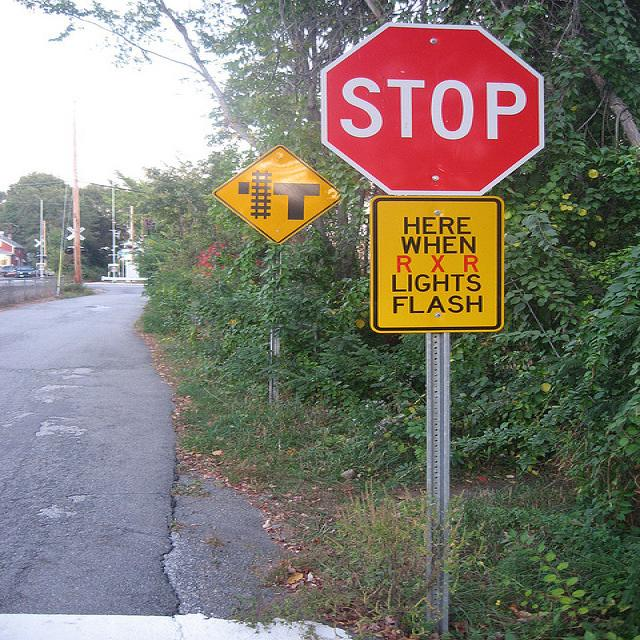Vehicle: (15, 267, 36, 277), (4, 269, 15, 277)
